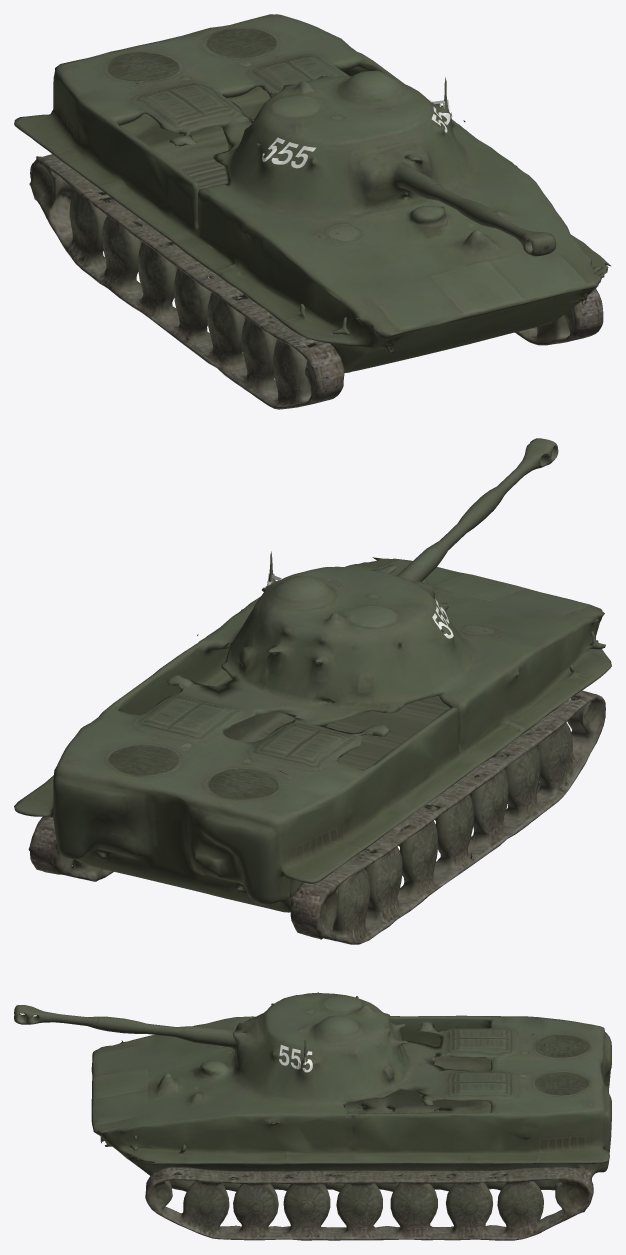
File: xe-tang-pt76.glb
3 renders of one model, top to bottom at view 1: azimuth 30°, elevation 25°; view 2: azimuth 150°, elevation 25°; view 3: azimuth 270°, elevation 25°, orthographic. The views are drawn at different scales.
Visible parts, largest first — view 1: pt76, so-hieu.001; view 2: pt76; view 3: pt76, so-hieu.
Boxes of the visible parts, x1=… form: pt76: x1=14, y1=14, x2=611, y2=409; so-hieu.001: x1=262, y1=137, x2=316, y2=168; pt76: x1=14, y1=438, x2=611, y2=944; pt76: x1=14, y1=992, x2=611, y2=1240; so-hieu: x1=279, y1=1045, x2=312, y2=1072.
Bounding box in the file's own units: 3.15 × 2.3 × 6.84.
2 materials, 2 textured.
